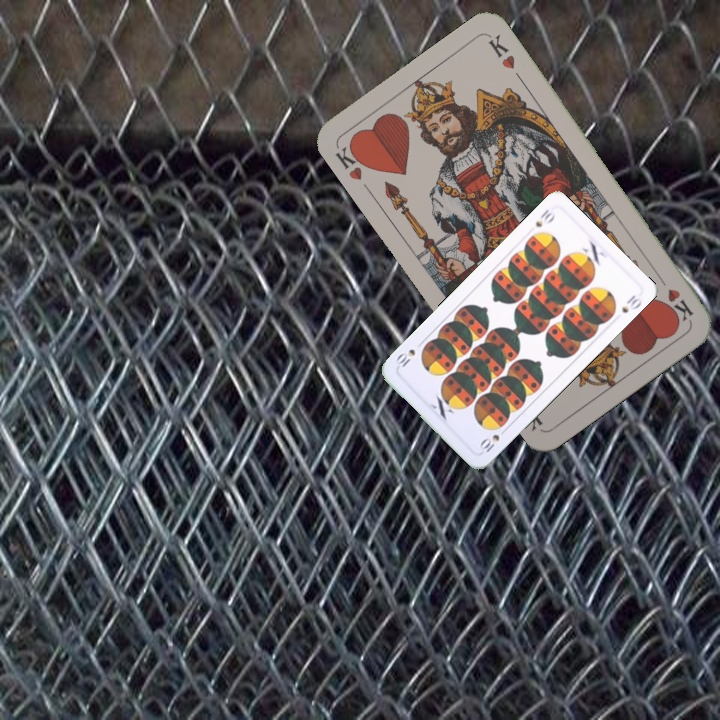HK: (653, 271, 696, 324), (331, 137, 372, 183)
S10: (475, 424, 510, 456), (531, 205, 558, 230)
